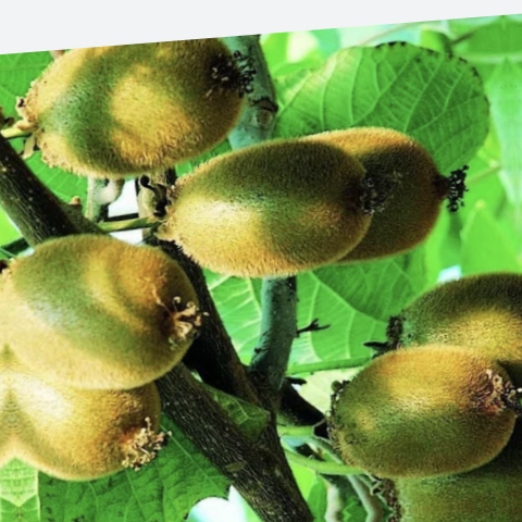kiwi: (16, 0, 283, 205), (144, 113, 390, 308), (0, 192, 205, 401), (319, 328, 521, 501)
